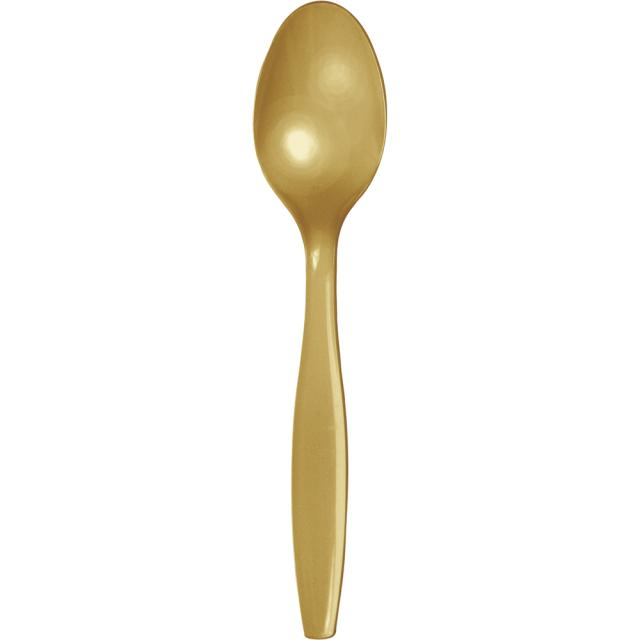spoon: (234, 0, 406, 640)
